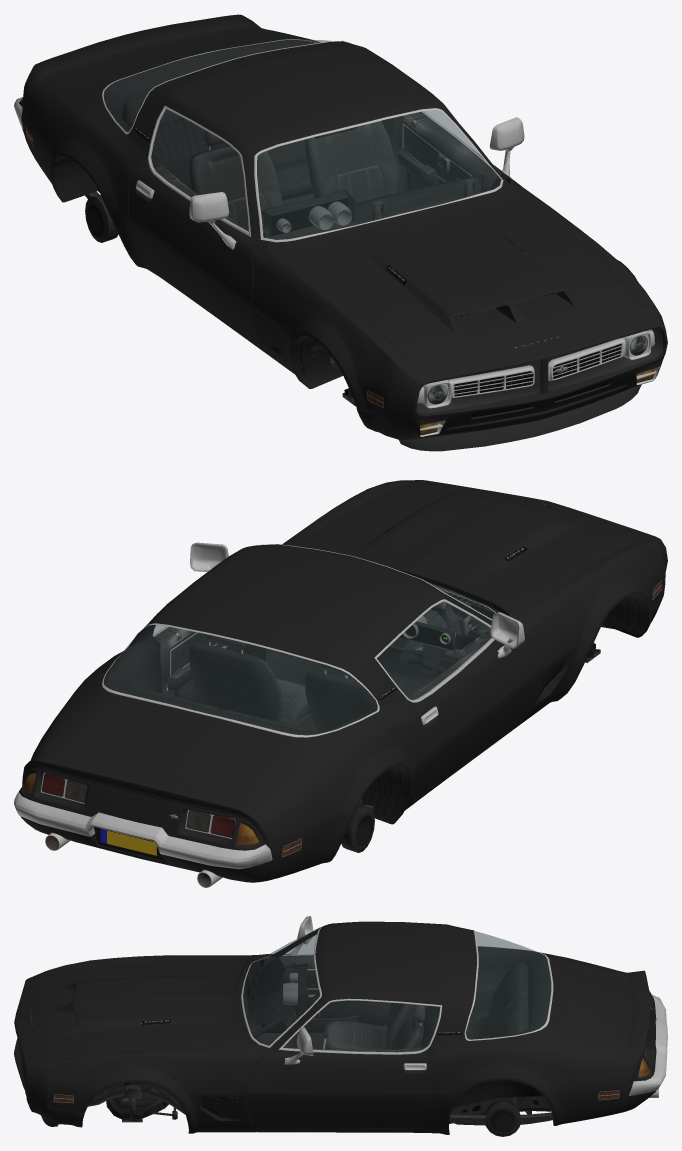
The model's file is doge-body.glb.
3 views of the same model, one above another, from view 1: azimuth 30°, elevation 25°; view 2: azimuth 150°, elevation 25°; view 3: azimuth 270°, elevation 25° (orthographic). The views are drawn at different scales.
Parts seen in each view (by area): view 1: Body, Hood, Windshield, Seats, Door_FR, Grill, Trunkdoor, Bottom, Doorglass_FR, Doorcard_FL, Dashboard, Interior (+7 smaller); view 2: Body, Hood, Glass_rear, Trunkdoor, Door_FR, Seats, Interior, Bottom, Doorglass_FR, Bumper_rear, Doorcard_FL, Suspension_front (+12 smaller); view 3: Body, Hood, Door_FL, Glass_rear, Seats, Doorglass_FL, Trunkdoor, Windshield, Interior, Bottom, Suspension_front, Doorcard_FR (+8 smaller).
Part boxes in pixels (x1,y1,x2,y2): Body: [19, 14, 667, 439]; Hood: [277, 186, 643, 364]; Windshield: [257, 110, 500, 239]; Seats: [121, 96, 397, 230]; Door_FR: [129, 159, 262, 349]; Grill: [416, 327, 663, 413]; Trunkdoor: [47, 16, 282, 82]; Bottom: [25, 39, 659, 436]; Doorglass_FR: [150, 109, 248, 232]; Doorcard_FL: [393, 111, 500, 191]; Dashboard: [262, 174, 497, 239]; Interior: [103, 39, 500, 205]; Body: [19, 480, 667, 882]; Hood: [294, 483, 643, 615]; Glass_rear: [104, 625, 377, 734]; Trunkdoor: [47, 701, 282, 813]; Door_FR: [407, 635, 542, 802]; Seats: [127, 633, 377, 731]; Interior: [103, 625, 459, 735]; Bottom: [49, 544, 661, 870]; Doorglass_FR: [377, 602, 491, 699]; Bumper_rear: [14, 791, 272, 869]; Doorcard_FL: [152, 626, 266, 703]; Suspension_front: [341, 631, 600, 852]; Body: [14, 921, 656, 1134]; Hood: [42, 956, 252, 1061]; Door_FL: [246, 1046, 435, 1128]; Glass_rear: [466, 931, 550, 1039]; Seats: [324, 962, 528, 1049]; Doorglass_FL: [283, 1001, 439, 1052]; Trunkdoor: [558, 960, 650, 1044]; Windshield: [243, 928, 319, 1045]; Interior: [246, 928, 551, 1048]; Bottom: [53, 927, 619, 1132]; Suspension_front: [106, 1085, 552, 1136]; Doorcard_FR: [257, 934, 426, 1032].
Bounding box in the file's own units: 2.2 × 1.2 × 4.89.
Materials: 15 (7 with a texture image).
